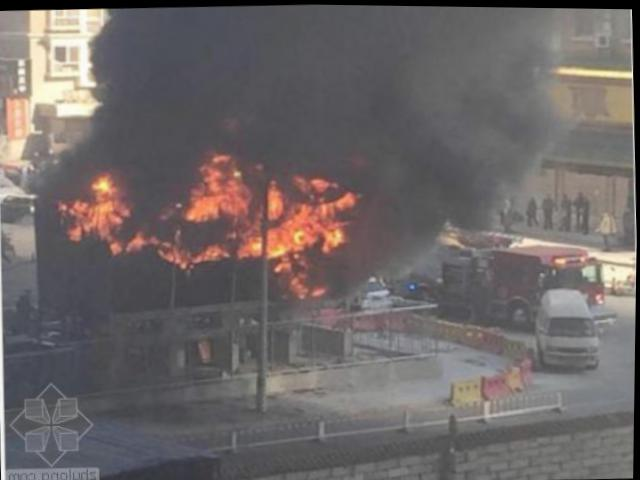fire: (189, 159, 254, 221), (294, 196, 351, 248), (93, 178, 127, 235), (269, 215, 297, 256), (241, 220, 264, 257), (165, 237, 193, 265), (268, 180, 288, 216), (197, 243, 232, 261), (291, 271, 313, 297), (73, 220, 92, 242), (129, 233, 155, 248), (71, 200, 93, 214)
